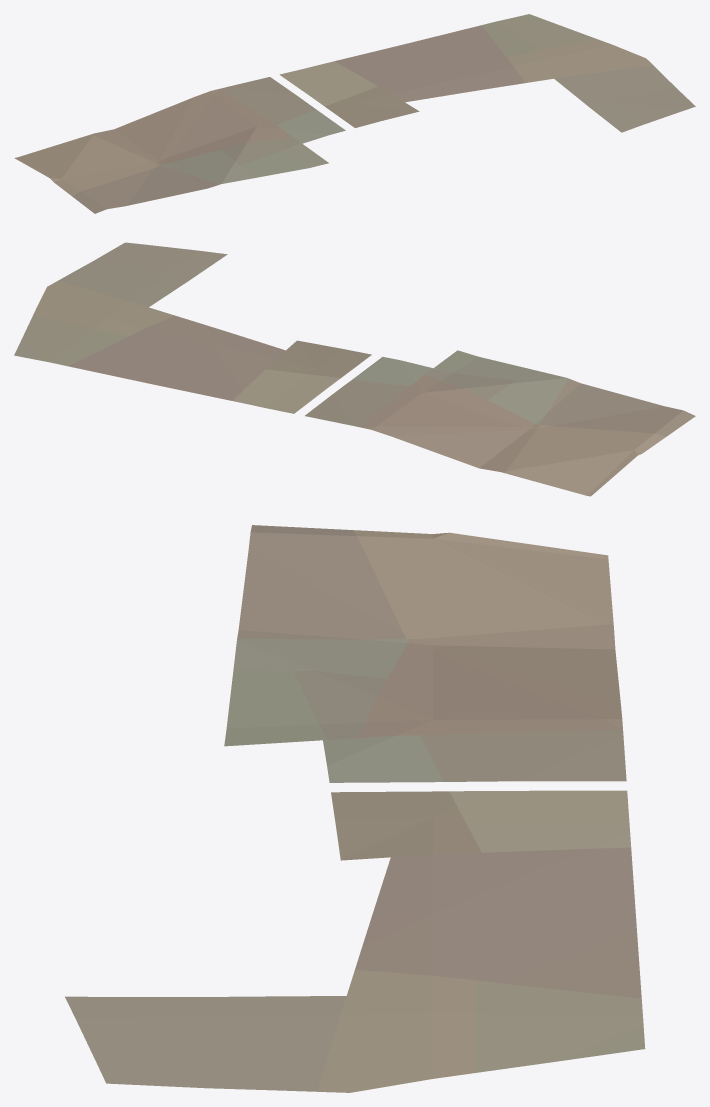
Rendered from farm_11_19_soil.glb.
3 views of the same model, one above another, from view 1: azimuth 30°, elevation 25°; view 2: azimuth 150°, elevation 25°; view 3: azimuth 270°, elevation 25° (orthographic). The views are drawn at different scales.
Visible parts, largest first — view 1: geometry_0; view 2: geometry_0; view 3: geometry_0.
Part boxes in pixels (<box>): geometry_0: <box>14,14,695,213</box>; geometry_0: <box>14,242,695,496</box>; geometry_0: <box>65,525,645,1092</box>.
Bounding box in the file's own units: 470 × 12.34 × 205.
